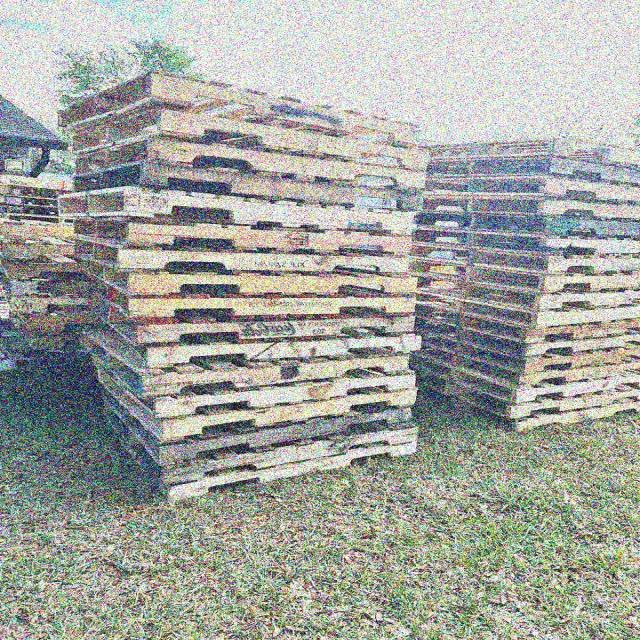non-igps: (62, 89, 438, 178), (52, 66, 427, 152), (97, 393, 428, 489), (97, 384, 419, 471), (93, 365, 426, 446), (77, 328, 414, 406), (70, 126, 432, 196), (85, 350, 422, 422), (67, 154, 430, 219), (82, 287, 421, 352), (52, 183, 423, 241), (151, 437, 423, 509), (84, 268, 420, 324), (61, 232, 416, 282), (68, 211, 417, 261), (74, 253, 422, 300), (403, 355, 640, 424), (404, 374, 640, 438), (400, 347, 640, 407), (406, 338, 640, 394), (140, 328, 426, 372), (401, 266, 640, 317), (410, 326, 640, 378), (407, 297, 640, 348), (402, 233, 640, 280), (404, 314, 640, 361), (403, 252, 640, 296), (405, 289, 640, 333), (403, 220, 640, 262), (407, 204, 640, 245), (416, 167, 640, 209), (420, 149, 640, 191), (410, 134, 640, 174), (415, 187, 640, 226)
